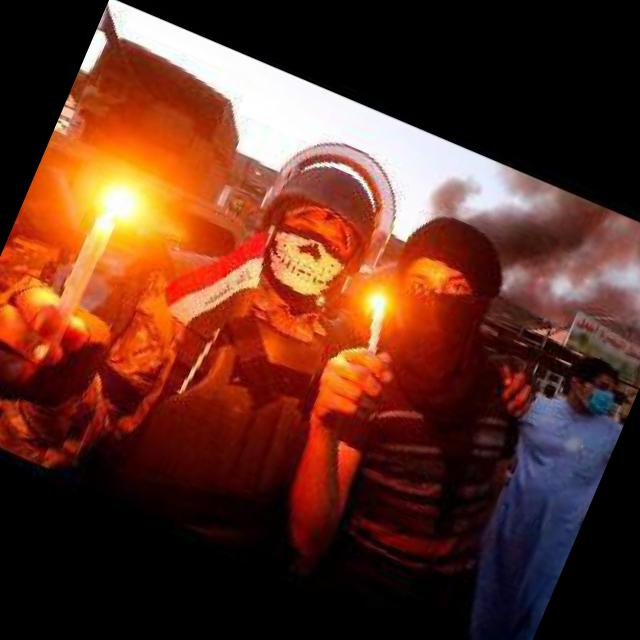fire: (90, 176, 145, 232), (361, 281, 398, 320)
smoke: (425, 148, 640, 354)
